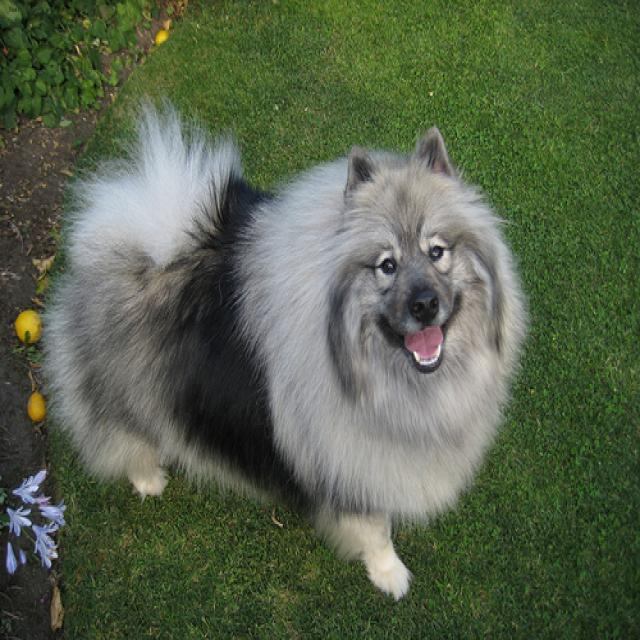dog-keeshond: (35, 89, 535, 609)
